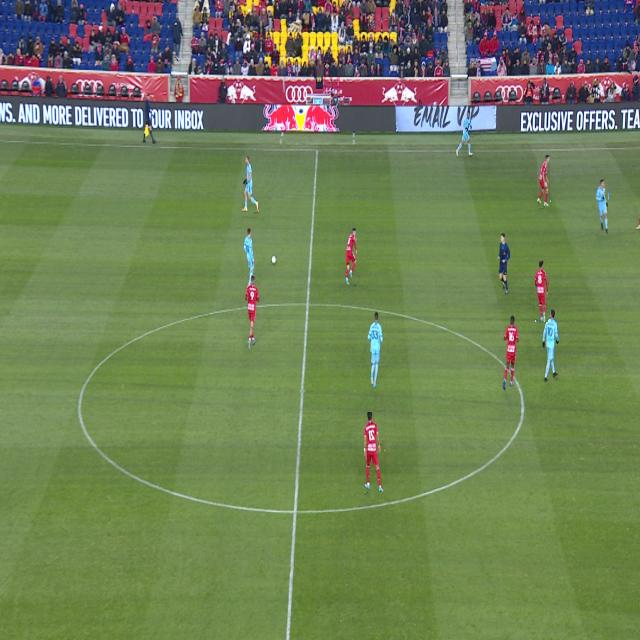football: (272, 255, 276, 264)
player: (364, 412, 384, 492), (543, 309, 559, 381), (368, 312, 383, 388), (503, 317, 518, 390), (245, 275, 259, 350), (243, 157, 258, 212), (535, 261, 548, 322), (456, 112, 473, 157), (346, 229, 357, 285), (538, 156, 550, 207), (597, 180, 608, 234), (244, 228, 254, 286), (636, 215, 640, 229)
referee: (498, 234, 510, 294)
